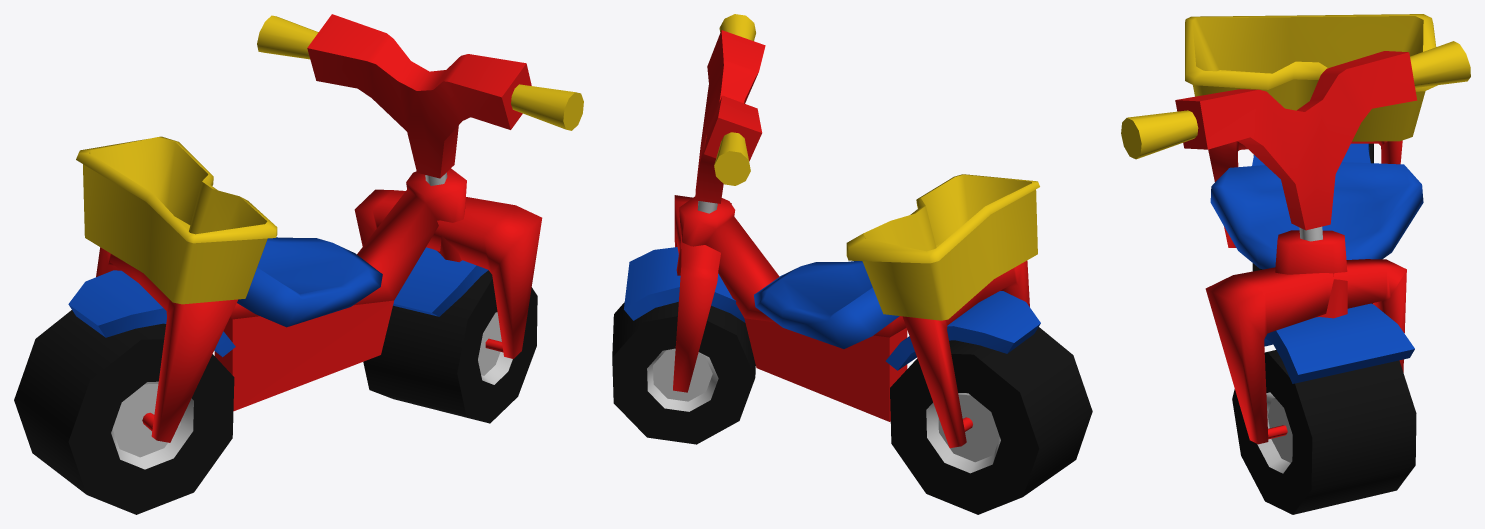
The model's file is Motorcicle.FBX.
3 views of the same model, side by side, from view 1: azimuth 30°, elevation 25°; view 2: azimuth 150°, elevation 25°; view 3: azimuth 270°, elevation 25° (orthographic). The views are drawn at different scales.
Parts seen in each view (by area): view 1: Motorcicle; view 2: Motorcicle; view 3: Motorcicle.
Boxes of the visible parts, x1,y1,x2,y2 form: Motorcicle: (14,14,583,514); Motorcicle: (612,14,1092,514); Motorcicle: (1121,14,1470,514).
Size of the model in its own units: 2.59 by 1.91 by 1.5.
